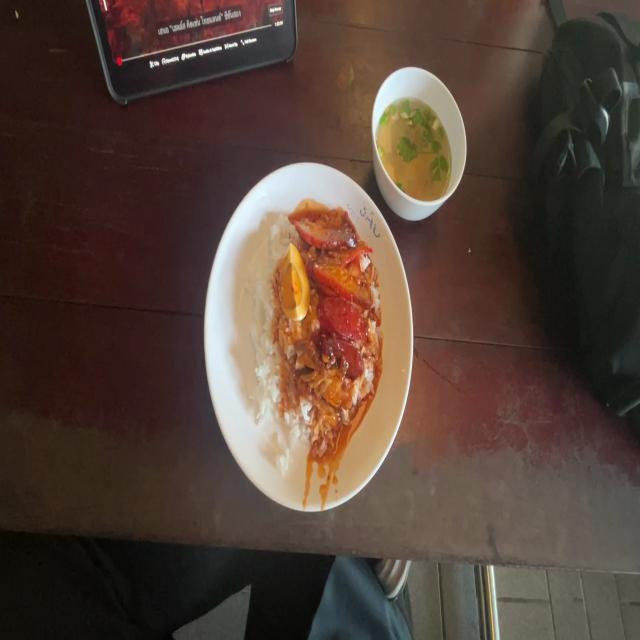01red_pork_and_crispy_pork: (258, 224, 380, 440)
